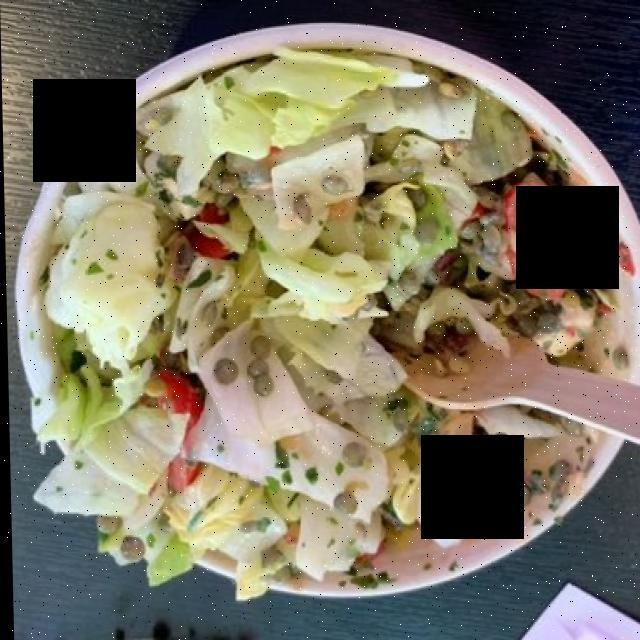salad: (38, 60, 612, 579)
tomato: (155, 172, 595, 488)
